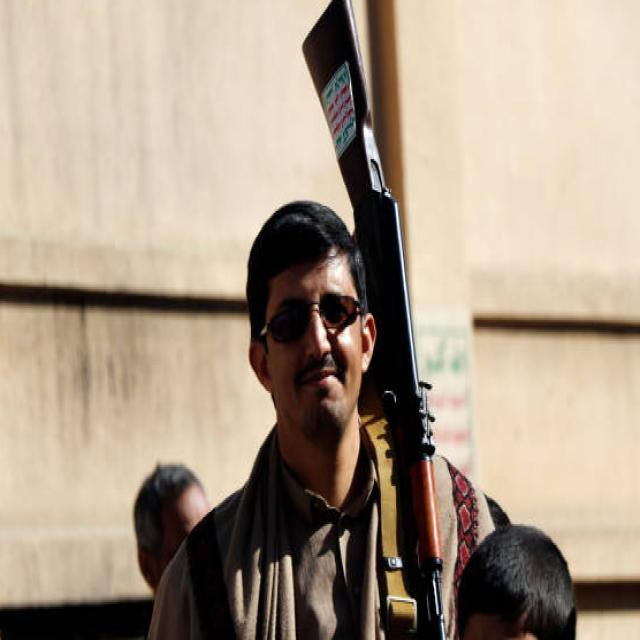terrorist: (148, 0, 494, 640)
